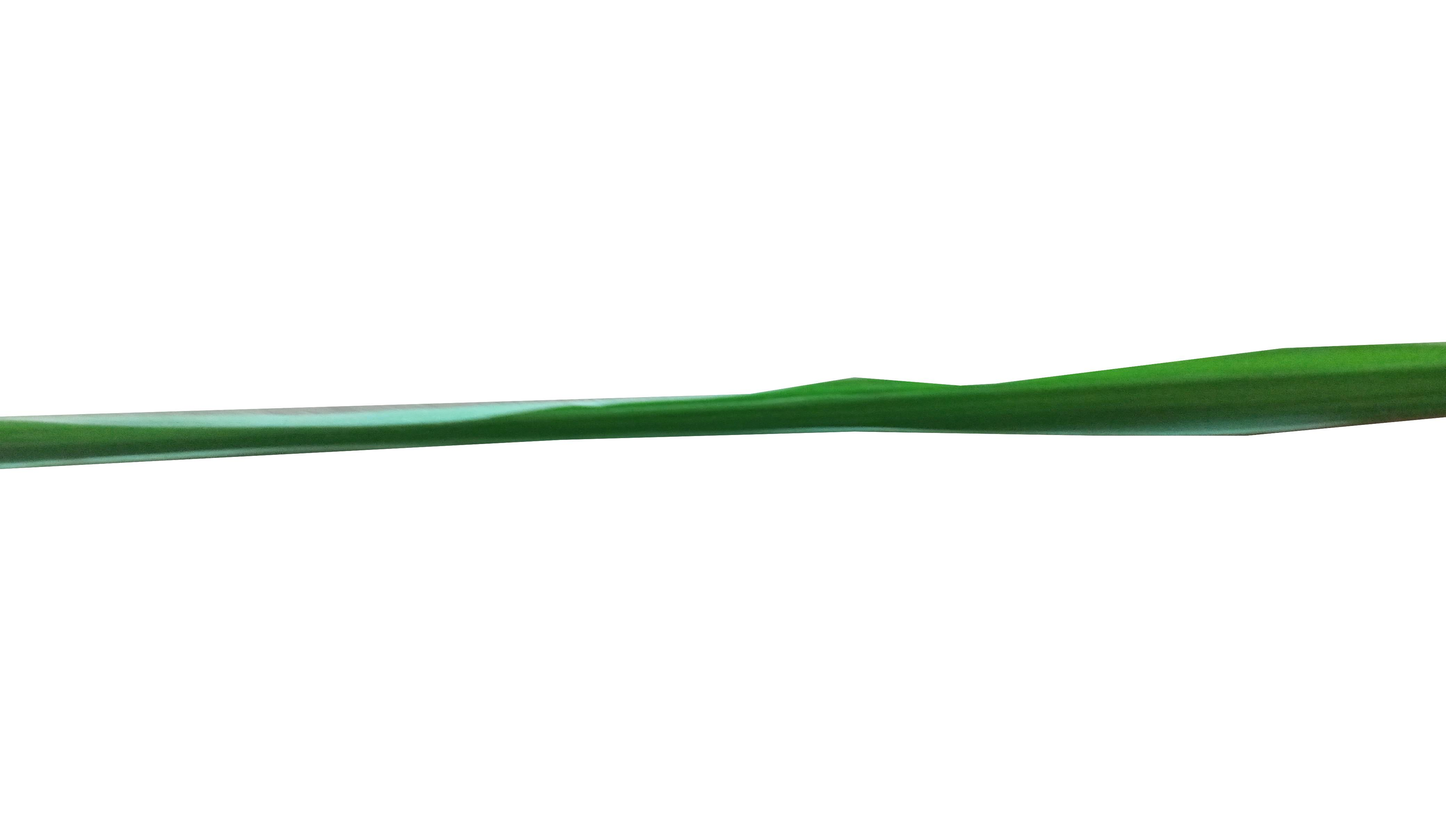Healthy: (0, 344, 1446, 470)
